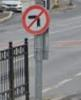leftturnsareforbidden: (23, 4, 54, 36)
